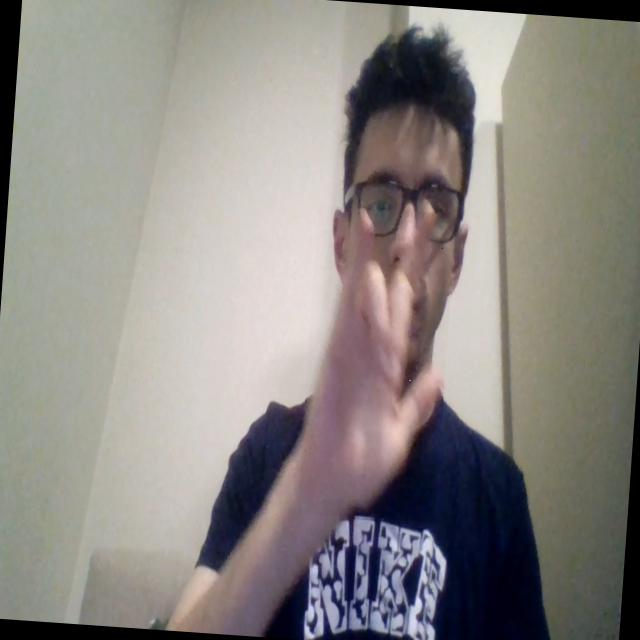iloveyou: (297, 205, 456, 524)
